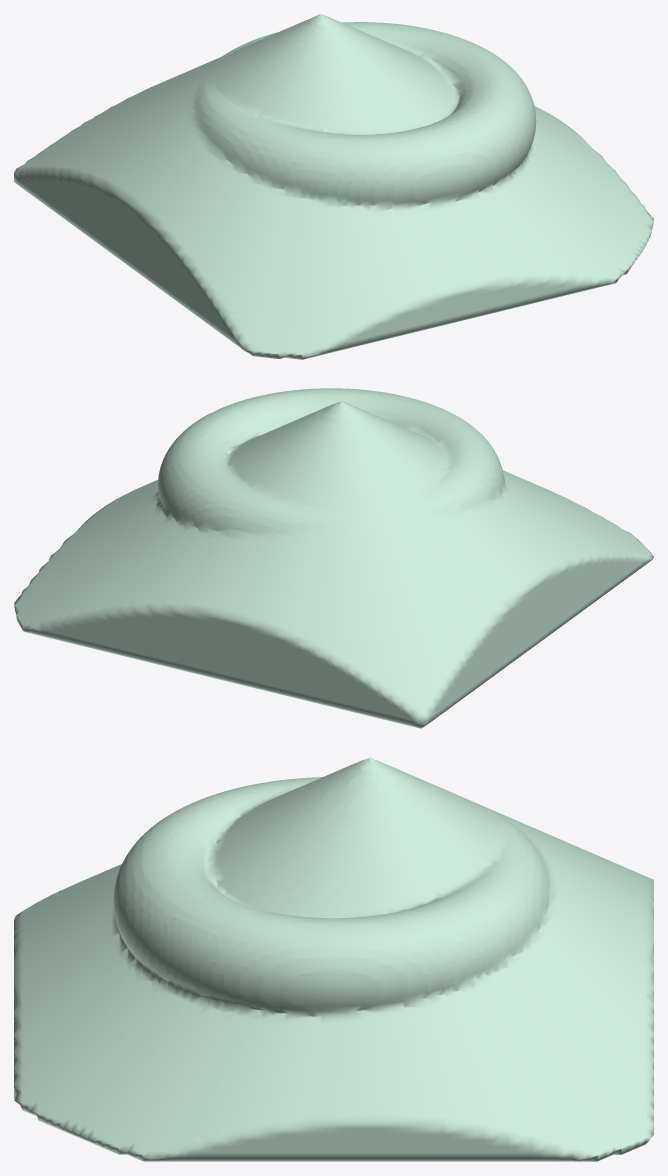
File: holo_spire.glb
The picture shows the model from 3 angles, top to bottom: view 1: azimuth 30°, elevation 25°; view 2: azimuth 150°, elevation 25°; view 3: azimuth 270°, elevation 25°; orthographic projection. The views are drawn at different scales.
Parts seen in each view (by area): view 1: holo_spire; view 2: holo_spire; view 3: holo_spire.
Boxes of the visible parts, x1,y1,x2,y2 form: holo_spire: (14, 14, 653, 359); holo_spire: (14, 388, 653, 728); holo_spire: (14, 757, 653, 1161).
Size of the model in its own units: 1.8 by 0.7975 by 1.8.
